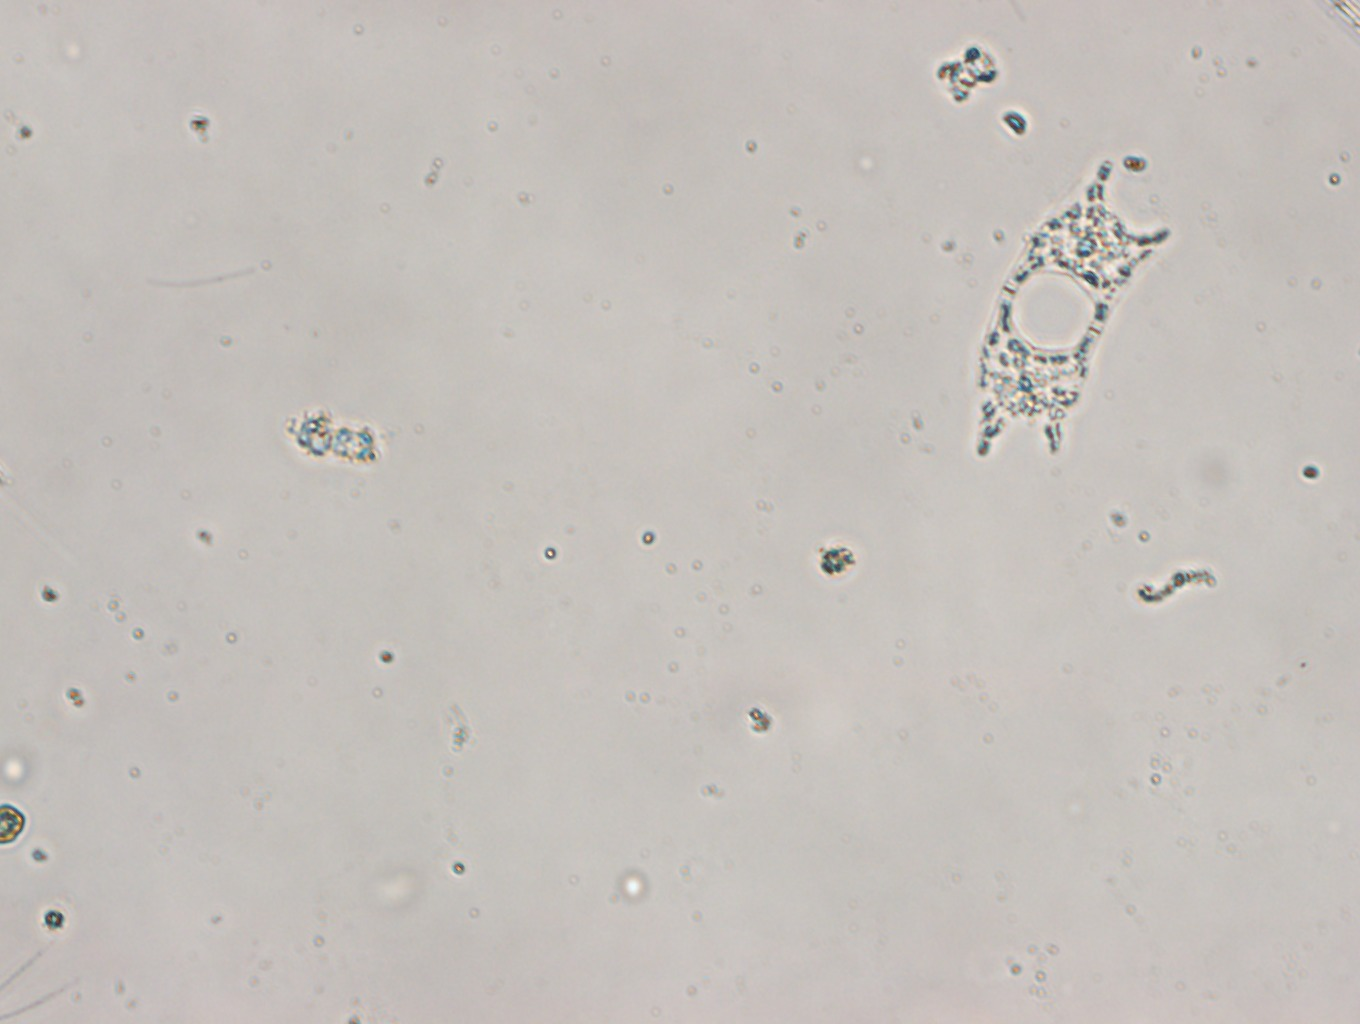eucampia: (969, 140, 1168, 477)
